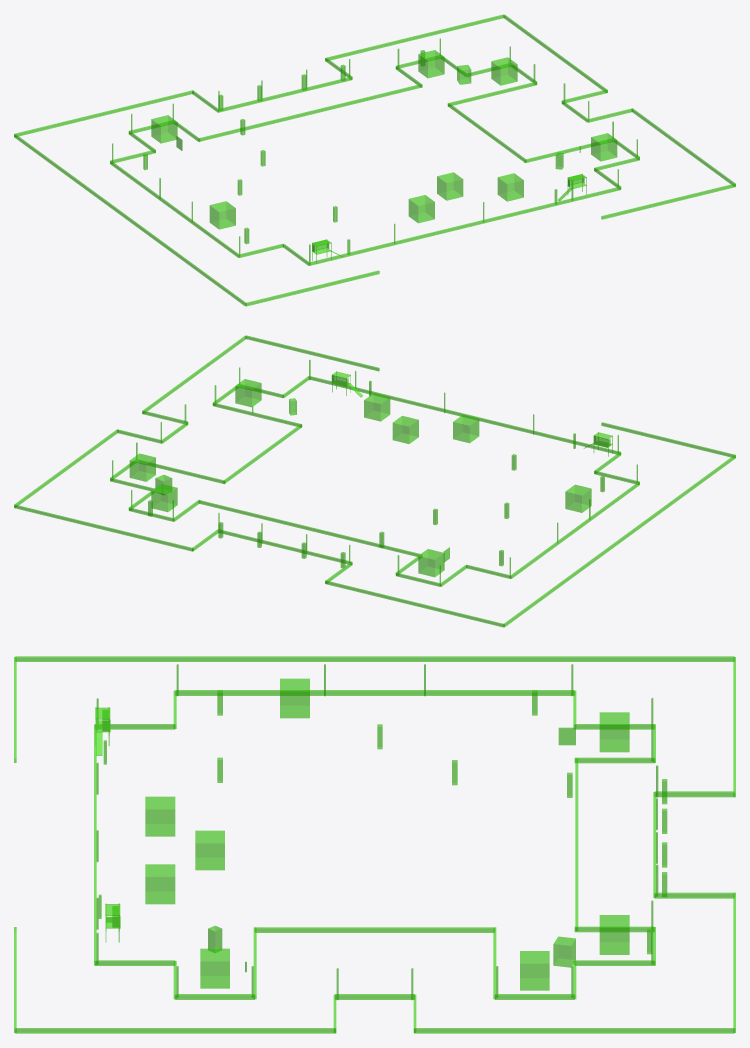
The model's file is track_02_collider.glb.
3 renders of one model, top to bottom at view 1: azimuth 30°, elevation 25°; view 2: azimuth 150°, elevation 25°; view 3: azimuth 270°, elevation 25°, orthographic. The views are drawn at different scales.
Visible parts, largest first — view 1: Box_collider.107_collider, Box_collider.273_collider, Box_collider.286_collider, Box_collider.283_collider, Box_collider.106_collider, Box_collider.277_collider, light1_collider, Box_collider.132_collider, Box_collider.120_collider, Box_collider.065_collider, Box_collider.148_collider, Box_collider.147_collider (+5 smaller); view 2: Box_collider.107_collider, Box_collider.273_collider, Box_collider.286_collider, Box_collider.283_collider, Box_collider.106_collider, Box_collider.277_collider, light1_collider, Box_collider.147_collider, Box_collider.132_collider, Box_collider.130_collider, Box_collider.065_collider, Box_collider.304_collider (+5 smaller); view 3: Box_collider.283_collider, Box_collider.106_collider, Box_collider.065_collider, light1_collider, Box_collider.272_collider, Box_collider.132_collider, Box_collider.130_collider, Box_collider.128_collider, Box_collider.148_collider, Box_collider.131_collider, Box_collider.120_collider, Box_collider.304_collider (+7 smaller).
Part boxes in pixels (left/top/right/bottom): Box_collider.107_collider: left=14, top=14, right=504, bottom=136; Box_collider.273_collider: left=309, top=186, right=620, bottom=265; Box_collider.286_collider: left=245, top=183, right=735, bottom=306; Box_collider.283_collider: left=14, top=134, right=246, bottom=306; Box_collider.106_collider: left=503, top=14, right=735, bottom=186; Box_collider.277_collider: left=198, top=84, right=421, bottom=141; light1_collider: left=112, top=38, right=637, bottom=263; Box_collider.132_collider: left=151, top=115, right=177, bottom=143; Box_collider.120_collider: left=591, top=133, right=617, bottom=161; Box_collider.065_collider: left=110, top=161, right=239, bottom=257; Box_collider.148_collider: left=418, top=50, right=444, bottom=78; Box_collider.147_collider: left=491, top=57, right=517, bottom=85; Box_collider.107_collider: left=14, top=504, right=504, bottom=627; Box_collider.273_collider: left=310, top=376, right=620, bottom=454; Box_collider.286_collider: left=245, top=335, right=735, bottom=457; Box_collider.283_collider: left=503, top=455, right=735, bottom=627; Box_collider.106_collider: left=14, top=335, right=246, bottom=507; Box_collider.277_collider: left=199, top=500, right=420, bottom=556; light1_collider: left=112, top=360, right=637, bottom=583; Box_collider.147_collider: left=129, top=453, right=155, bottom=481; Box_collider.132_collider: left=418, top=549, right=444, bottom=577; Box_collider.130_collider: left=453, top=415, right=479, bottom=443; Box_collider.065_collider: left=510, top=482, right=639, bottom=578; Box_collider.304_collider: left=392, top=416, right=418, bottom=443; Box_collider.283_collider: left=15, top=656, right=734, bottom=661; Box_collider.106_collider: left=15, top=1028, right=734, bottom=1033; Box_collider.065_collider: left=175, top=690, right=574, bottom=695; light1_collider: left=96, top=664, right=658, bottom=999; Box_collider.272_collider: left=255, top=927, right=494, bottom=932; Box_collider.132_collider: left=599, top=712, right=629, bottom=752; Box_collider.130_collider: left=145, top=796, right=175, bottom=836; Box_collider.128_collider: left=145, top=864, right=175, bottom=904; Box_collider.148_collider: left=599, top=915, right=629, bottom=954; Box_collider.131_collider: left=280, top=678, right=309, bottom=718; Box_collider.120_collider: left=200, top=948, right=229, bottom=988; Box_collider.304_collider: left=195, top=830, right=224, bottom=870.
Bounding box in the file's own units: 177 × 7.56 × 145.
